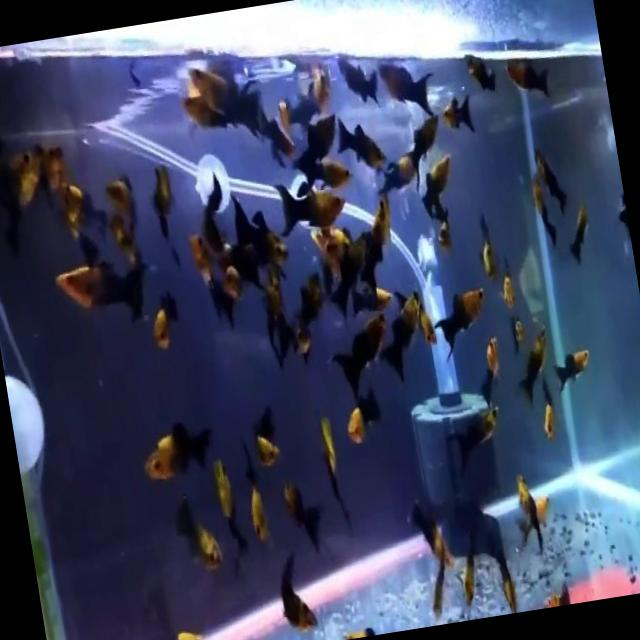PlatyFish: (42, 234, 164, 346), (184, 43, 278, 164), (126, 405, 226, 500), (322, 306, 402, 407), (422, 272, 501, 371), (267, 168, 356, 244), (375, 51, 442, 136)
